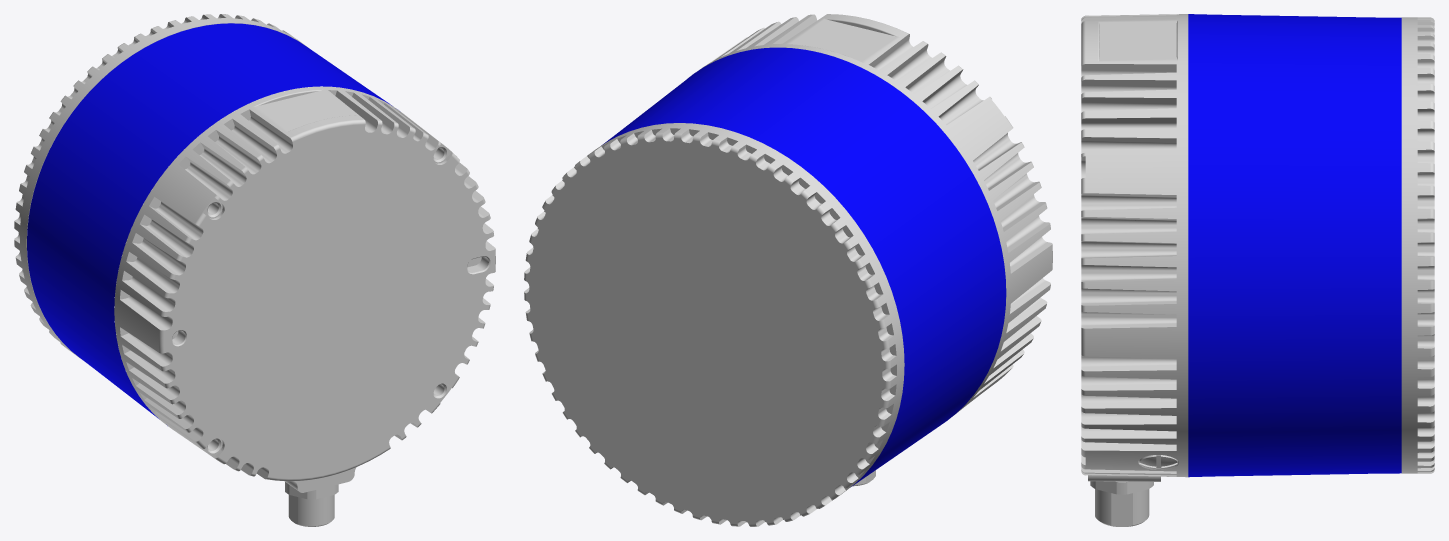
The model's file is lslidar_c16_v4.glb.
3 renders of one model, left to right at view 1: azimuth 30°, elevation 25°; view 2: azimuth 150°, elevation 25°; view 3: azimuth 270°, elevation 25°, orthographic. The views are drawn at different scales.
Parts seen in each view (by area): view 1: C32-APPEARANCE; view 2: C32-APPEARANCE; view 3: C32-APPEARANCE.
Boxes of the visible parts, x1,y1,x2,y2 form: C32-APPEARANCE: [14, 14, 495, 526]; C32-APPEARANCE: [524, 14, 1052, 526]; C32-APPEARANCE: [1081, 14, 1434, 526].
Size of the model in its own units: 0.102 by 0.1168 by 0.0778.
